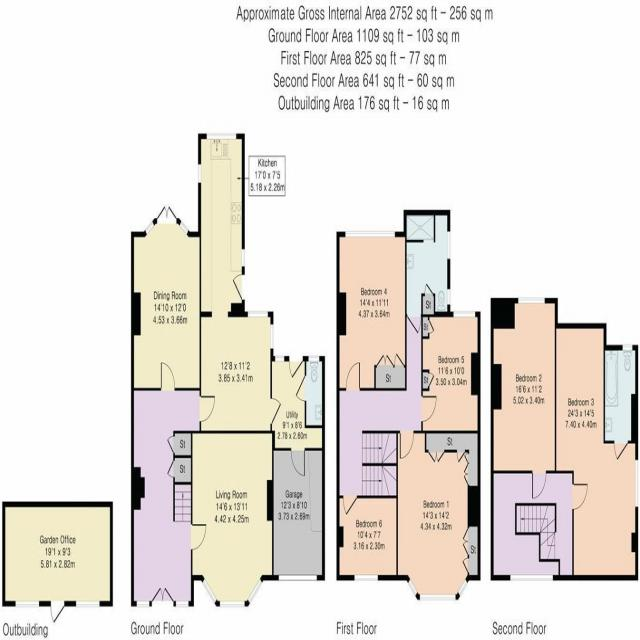DOOR: (531, 469, 547, 500), (190, 523, 207, 552), (160, 361, 176, 391), (199, 394, 215, 423), (399, 430, 414, 460), (572, 483, 588, 511), (421, 395, 437, 423), (346, 362, 360, 391), (231, 273, 245, 302), (288, 356, 304, 380), (270, 397, 282, 426), (407, 314, 422, 337), (294, 374, 306, 402), (343, 495, 358, 516), (614, 441, 628, 461)
DOUBLE DOOR: (156, 202, 180, 224)
ROOM: (198, 133, 282, 434), (555, 323, 638, 581), (190, 430, 274, 608), (396, 430, 481, 602), (490, 297, 558, 500), (131, 205, 201, 391), (336, 231, 407, 391), (421, 311, 481, 434), (336, 496, 398, 581)
WINDOW: (246, 576, 263, 606), (202, 577, 218, 606), (509, 573, 554, 583), (345, 231, 396, 238), (419, 593, 456, 601), (517, 296, 546, 305), (407, 577, 418, 598), (457, 577, 468, 598), (206, 133, 237, 140), (219, 600, 245, 608), (635, 459, 639, 509), (354, 574, 379, 582), (179, 219, 190, 237), (144, 220, 155, 236), (453, 311, 476, 318), (446, 230, 451, 261), (247, 311, 269, 318), (269, 323, 274, 350), (308, 355, 321, 363), (197, 164, 202, 184), (446, 288, 451, 307), (274, 355, 285, 363), (241, 248, 245, 268), (622, 344, 633, 351)
